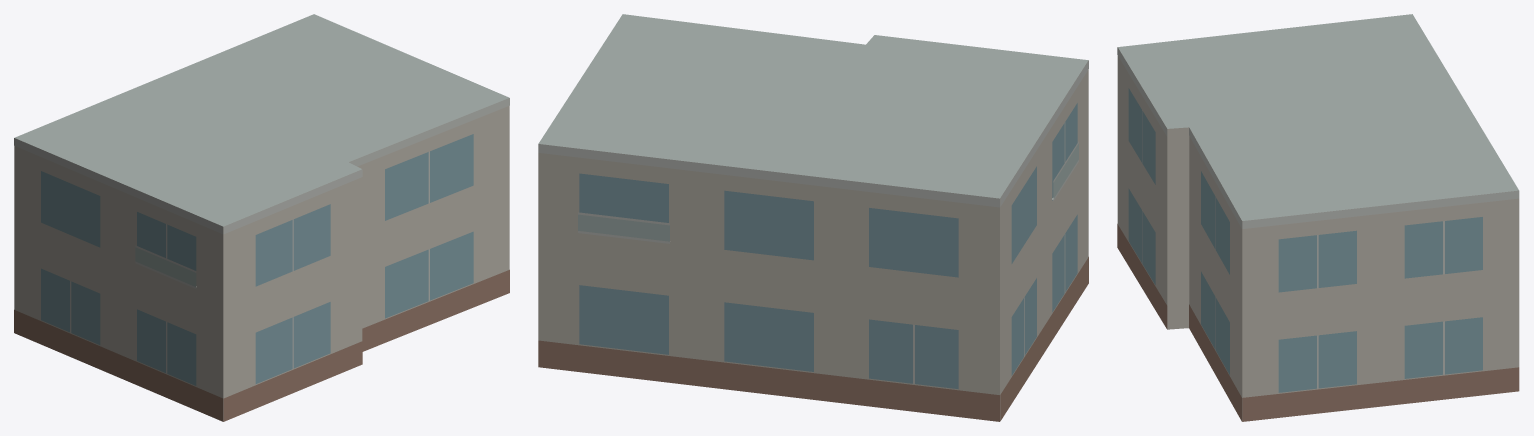
The model's file is survey-upis-32675683.glb.
3 views of the same model, side by side, from view 1: azimuth 30°, elevation 25°; view 2: azimuth 150°, elevation 25°; view 3: azimuth 270°, elevation 25° (orthographic). The views are drawn at different scales.
Parts seen in each view (by area): view 1: survey-upis-32675683.tmp; view 2: survey-upis-32675683.tmp; view 3: survey-upis-32675683.tmp.
Boxes of the visible parts, <box> form: survey-upis-32675683.tmp: <box>14,14,509,421</box>; survey-upis-32675683.tmp: <box>538,14,1088,421</box>; survey-upis-32675683.tmp: <box>1117,14,1519,421</box>.
Bounding box in the file's own units: 13.51 × 6.1 × 11.07.
